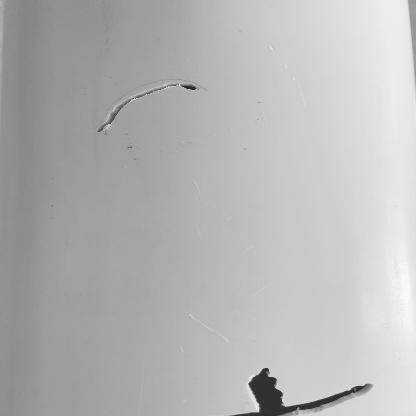fengxi: (96, 82, 199, 131), (285, 381, 373, 416)
kongdong: (231, 367, 285, 416)
